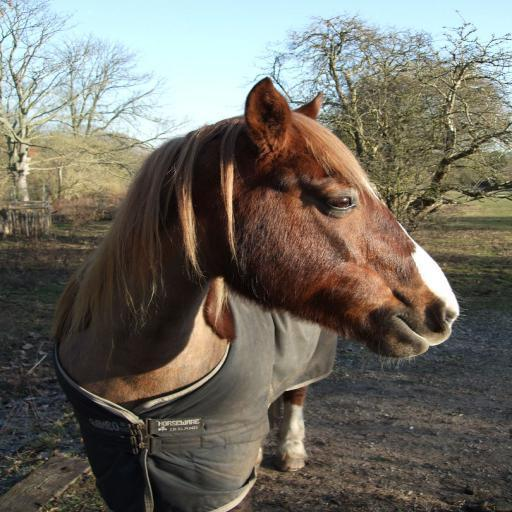horse: (45, 78, 461, 512)
